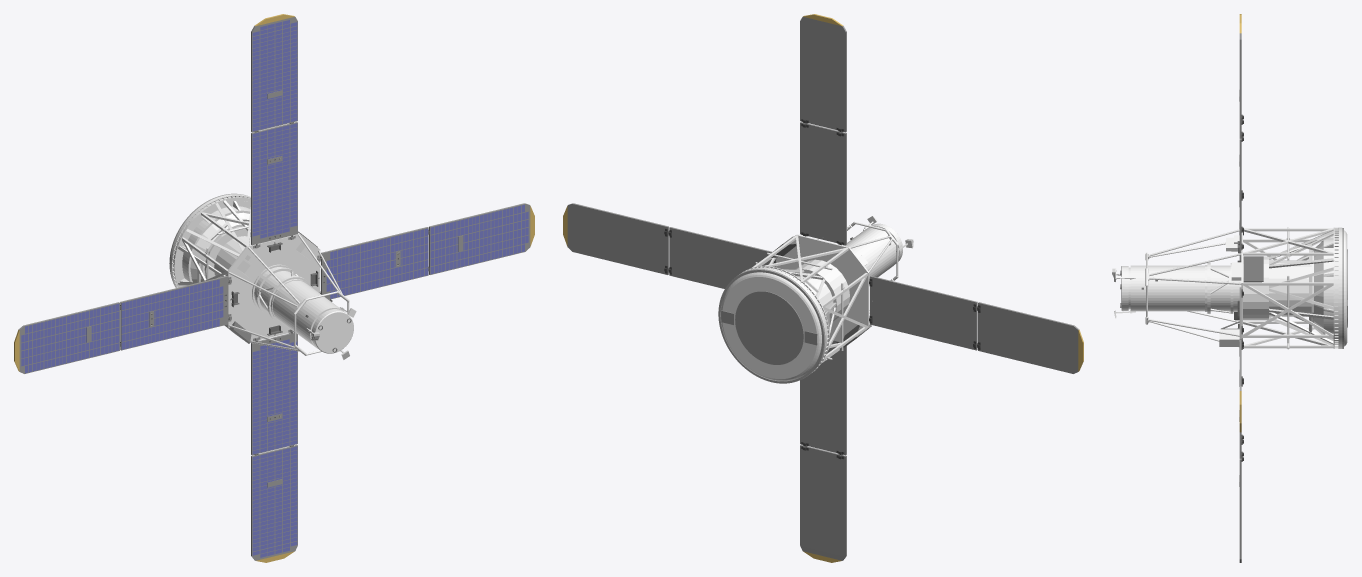
Rendered from HESSI-RHESSI.glb.
3 renders of one model, left to right at view 1: azimuth 30°, elevation 25°; view 2: azimuth 150°, elevation 25°; view 3: azimuth 270°, elevation 25°, orthographic.
Visible parts, largest first — view 1: <LWODefault>; view 2: <LWODefault>; view 3: <LWODefault>.
Boxes of the visible parts, left/top/right/bottom form: <LWODefault>: left=14, top=14, right=534, bottom=562; <LWODefault>: left=563, top=14, right=1083, bottom=562; <LWODefault>: left=1112, top=14, right=1347, bottom=562.
Bounding box in the file's own units: 747 × 747 × 296.
